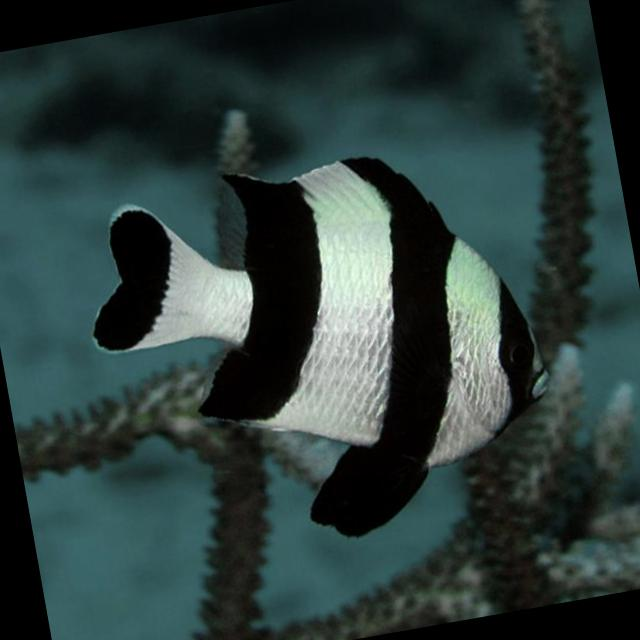Three_striped DasmselFish: (71, 118, 574, 576)
